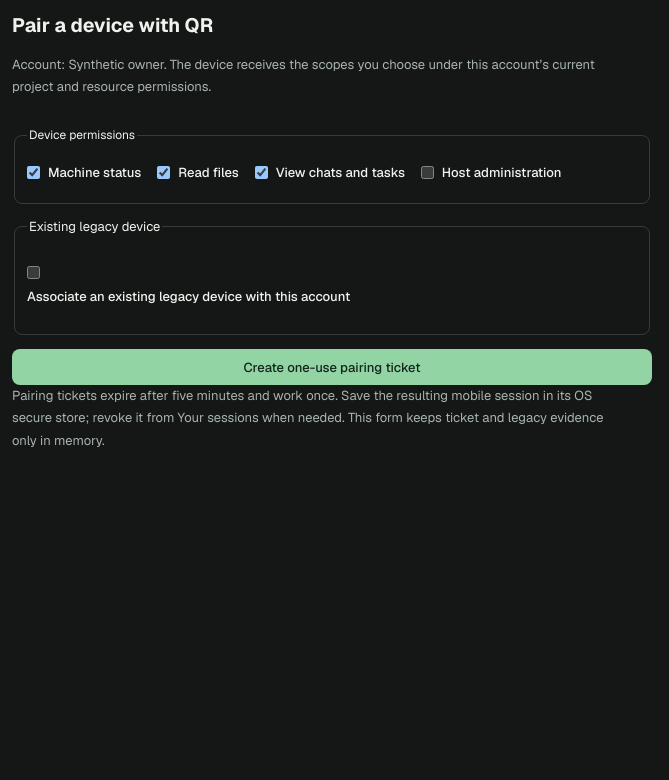
managed mobile pairing › issues explicit account-scoped permissions without automatically granting administration
The image size is (669, 780).
Expected: the checkbox labelled "Host administration" is not checked, [421,166,434,179]
What coordinates should you click on to do the following:
click the button "Create one-use pairing ticket"
I would click on:
 (332, 367)
Its box is [12,349,652,385].
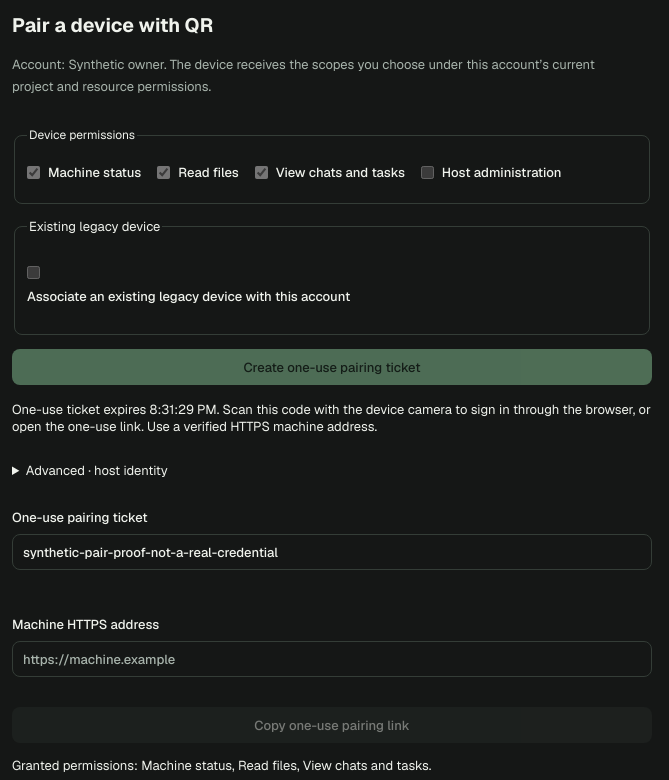
Now the field labelled "One-use pairing ticket" is shown, box [12,534,652,570]
Now the element labelled "host identity" holds "fixture-host", box [26,462,168,479]
